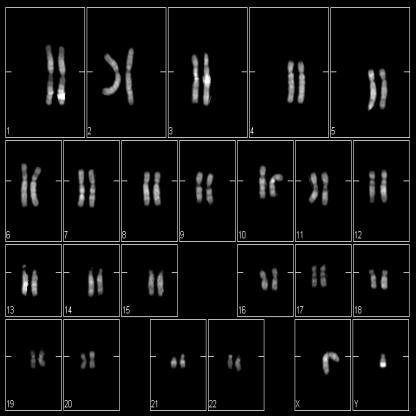1: (43, 42, 56, 107), (54, 44, 66, 105)
10: (270, 172, 284, 197), (260, 162, 266, 200)
11: (310, 170, 318, 204), (320, 171, 328, 205)
12: (366, 168, 376, 203), (380, 169, 388, 204)
13: (20, 264, 28, 296), (30, 270, 38, 297)
14: (96, 267, 104, 298), (87, 270, 94, 297)
15: (147, 268, 155, 296), (157, 267, 165, 294)
16: (258, 270, 270, 290), (270, 266, 278, 289)
17: (320, 260, 326, 288), (312, 262, 317, 289)
18: (368, 268, 376, 290), (381, 267, 388, 288)
19: (38, 346, 46, 368), (30, 347, 36, 370)
2: (102, 52, 121, 96), (124, 46, 136, 106)
20: (80, 352, 86, 372), (88, 350, 94, 370)
21: (170, 354, 178, 372), (179, 353, 186, 371)
22: (226, 352, 236, 370), (233, 356, 242, 370)
3: (203, 52, 211, 106), (192, 52, 200, 102)
4: (288, 58, 296, 104), (298, 58, 306, 102)
5: (366, 66, 377, 112), (380, 66, 388, 111)
6: (31, 164, 42, 206), (20, 160, 26, 204)
7: (77, 168, 86, 209), (88, 168, 96, 209)
8: (144, 170, 152, 206), (153, 170, 161, 206)
9: (206, 172, 216, 205), (196, 170, 202, 202)
X: (324, 352, 338, 376)
Y: (378, 354, 388, 368)
